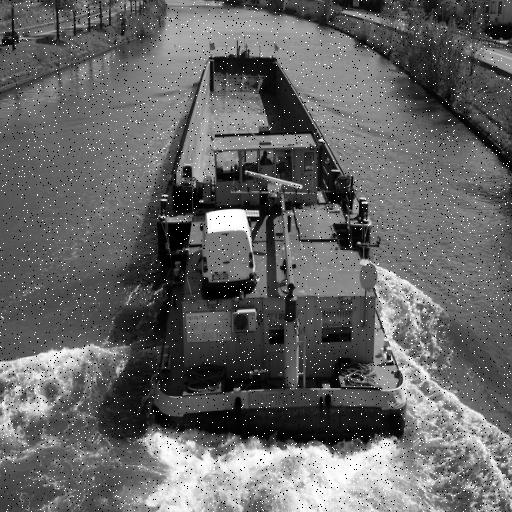tugboat: (150, 124, 412, 453)
